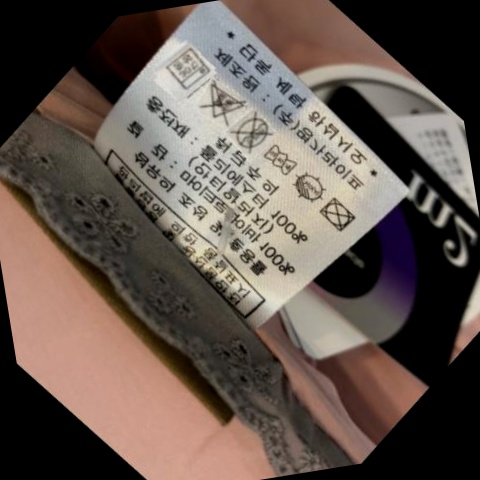30C: (159, 46, 214, 94)
DN_dry_clean: (223, 112, 277, 155)
DN_tumble_dry: (317, 195, 356, 234)
dry_flat_in_shade: (285, 164, 332, 205)
non_chlorine_bleach: (195, 81, 247, 127)
wring: (256, 140, 302, 183)
